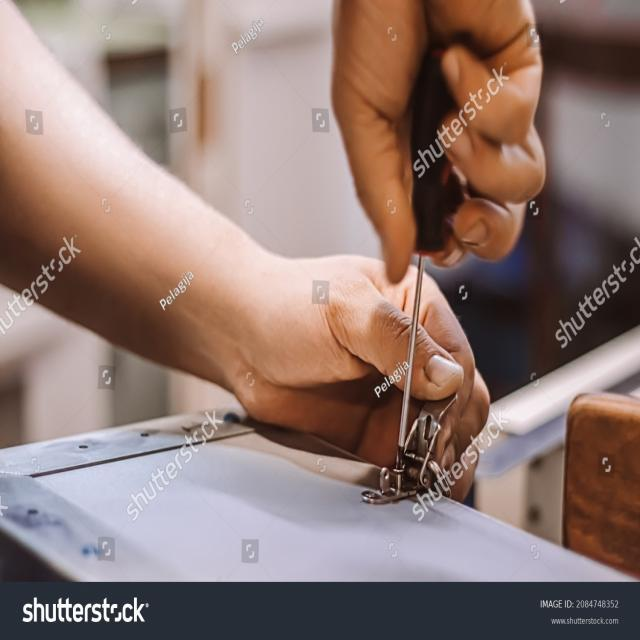screwdriver: (390, 40, 463, 477)
